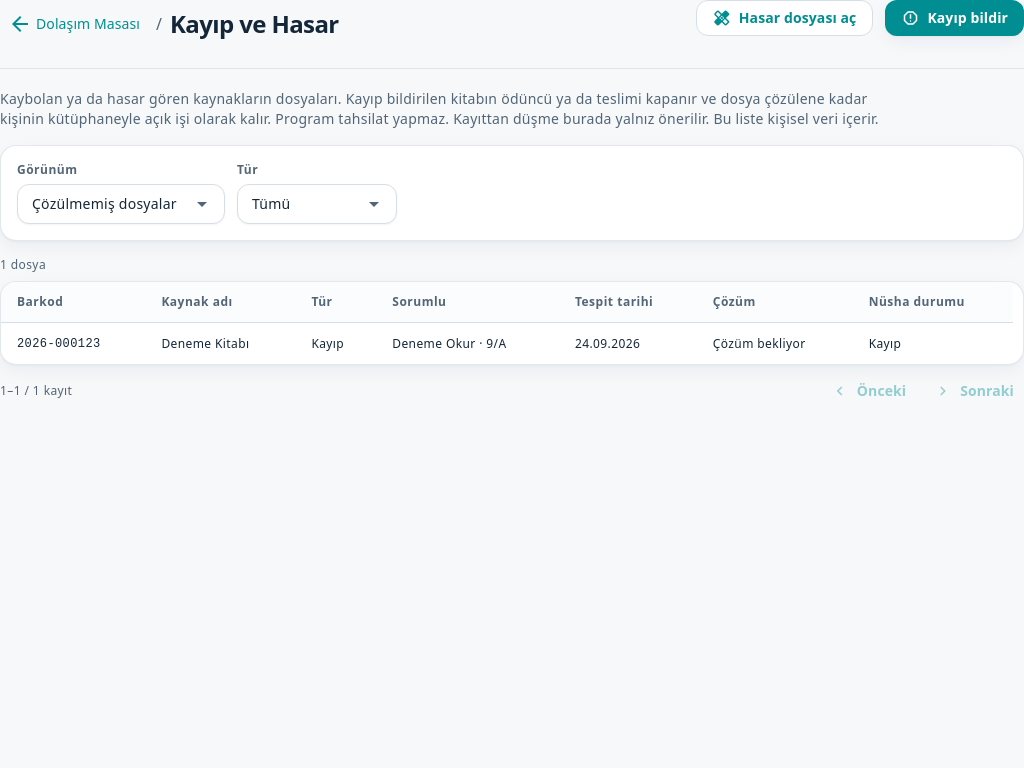
Test: KayipHasarPage › satıra tıklanınca dosya ayrıntısı açılır
Click the button with aria-label "2026-000123 numaralı nüshanın dosyasını aç" at (507, 343), box x1=1 y1=322 x2=1013 y2=364
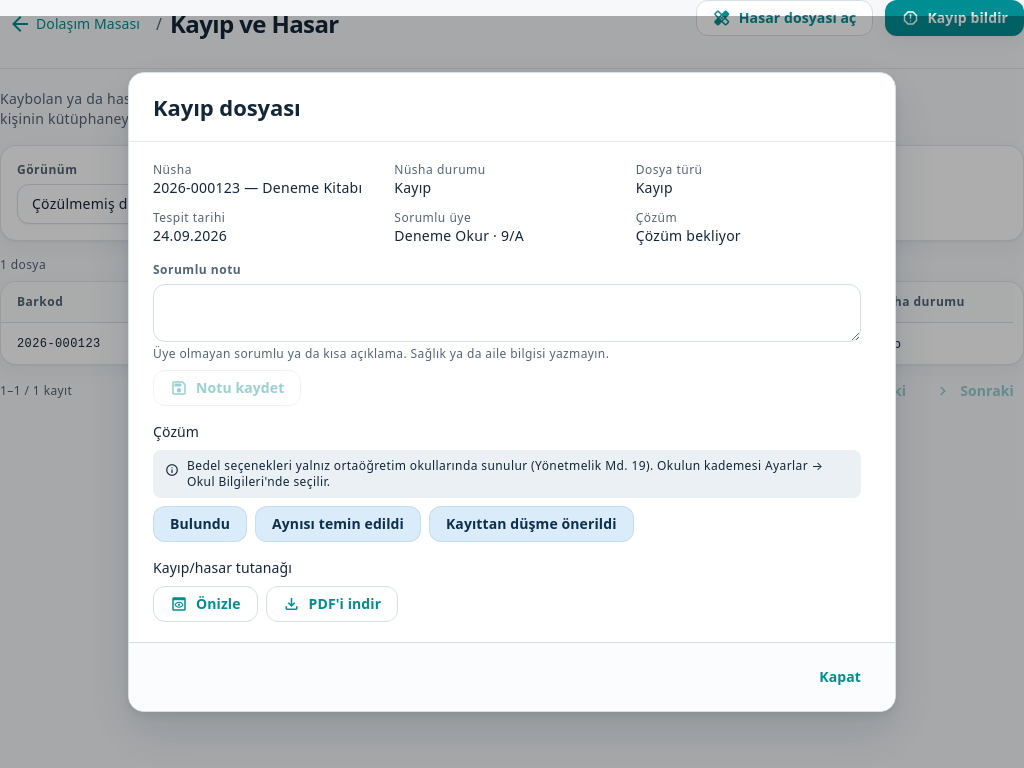
Expected: the dialog "Kayıp dosyası" is shown
Click the button "Kapat" at (840, 677), box x1=809 y1=659 x2=871 y2=695
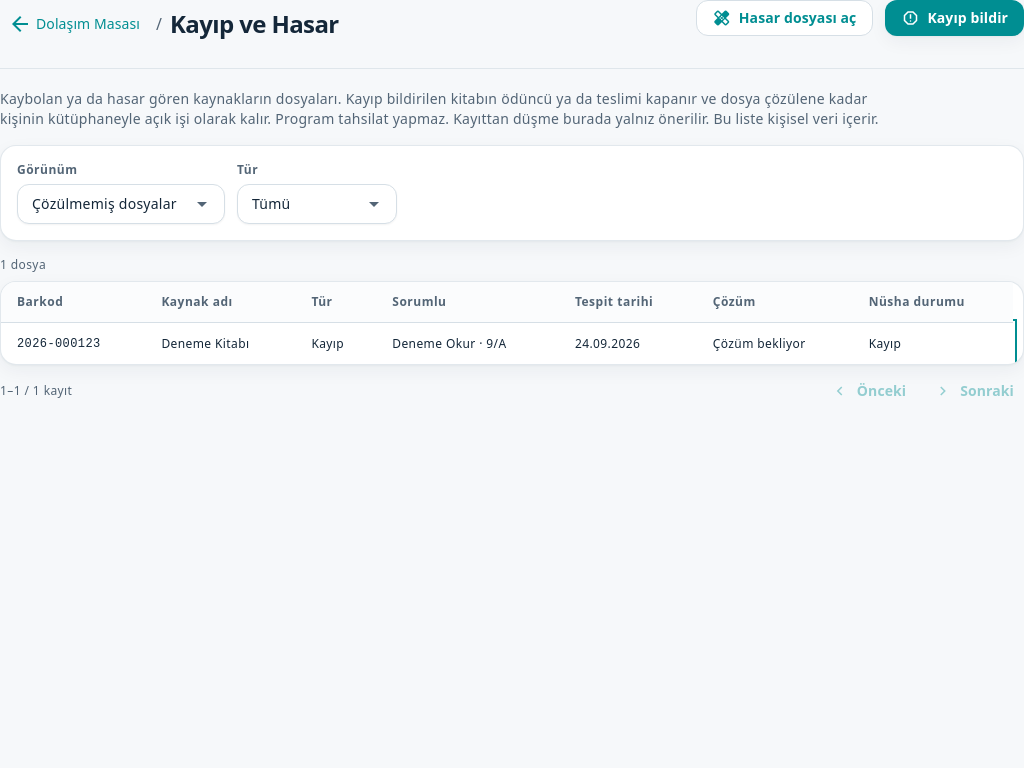
Expected: the dialog is gone
